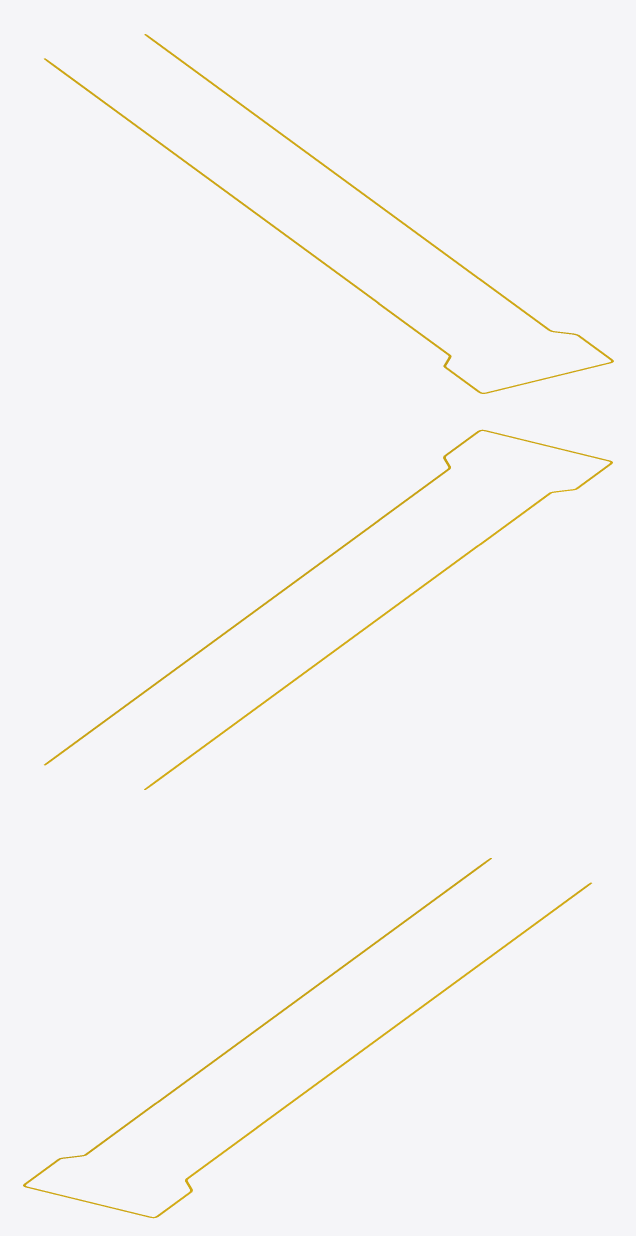
Rendered from Light Glow (1).fbx.
3 renders of one model, top to bottom at view 1: azimuth 30°, elevation 25°; view 2: azimuth 150°, elevation 25°; view 3: azimuth 330°, elevation 25°, orthographic.
Parts seen in each view (by area): view 1: Glow_Light1; view 2: Glow_Light1; view 3: Glow_Light1.
Part boxes in pixels (x1,y1,x2,y2): Glow_Light1: (44,34,613,393); Glow_Light1: (44,429,612,789); Glow_Light1: (23,858,591,1218).
Size of the model in its own units: 7.62 by 7.63e-08 by 44.81.
1 material, 1 textured.
